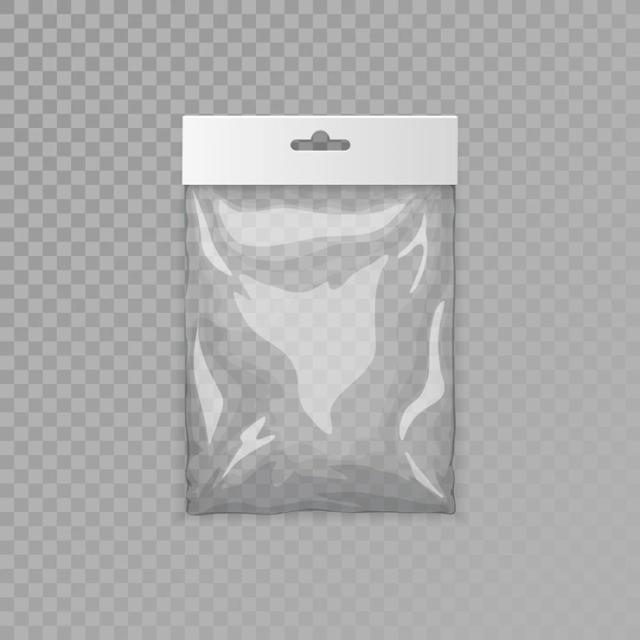plastic_bag: (176, 89, 452, 544)
